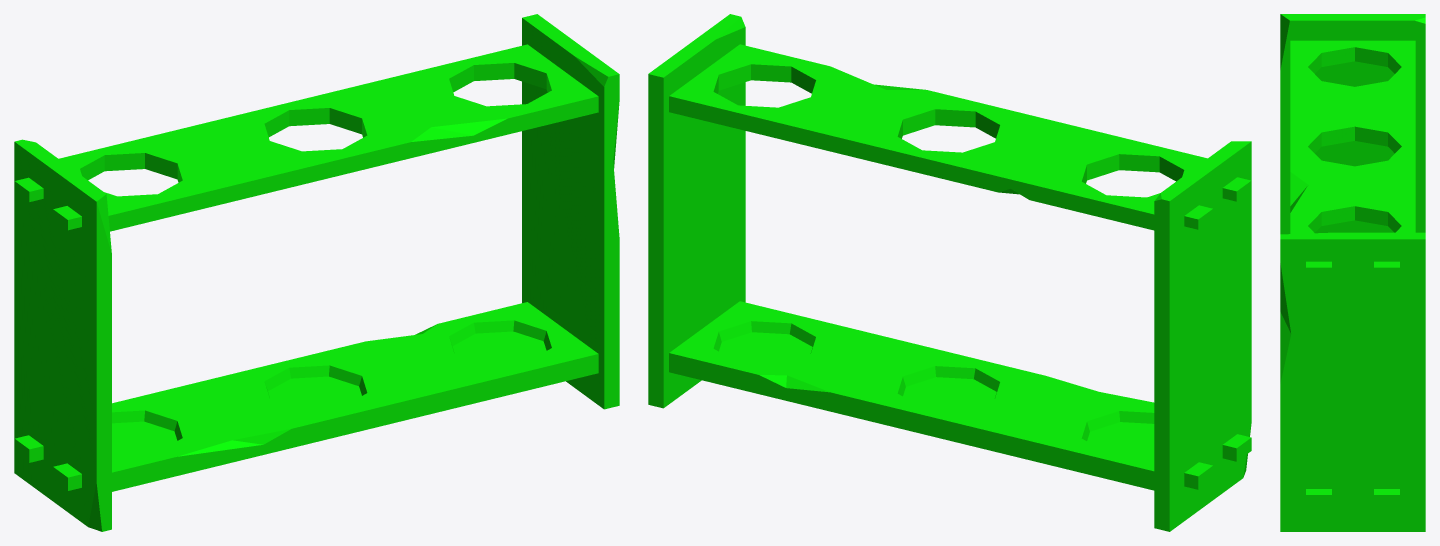
The model's file is SM_Rack_Arrows_Fantasy.fbx.
3 renders of one model, left to right at view 1: azimuth 30°, elevation 25°; view 2: azimuth 150°, elevation 25°; view 3: azimuth 270°, elevation 25°, orthographic. The views are drawn at different scales.
Visible parts, largest first — view 1: rack-arrows-fantasy; view 2: rack-arrows-fantasy; view 3: rack-arrows-fantasy.
Part boxes in pixels (<box>): rack-arrows-fantasy: <box>14,14,619,531</box>; rack-arrows-fantasy: <box>648,14,1251,531</box>; rack-arrows-fantasy: <box>1280,14,1425,531</box>.
Size of the model in its own units: 1.79 by 1.03 by 0.4627.
